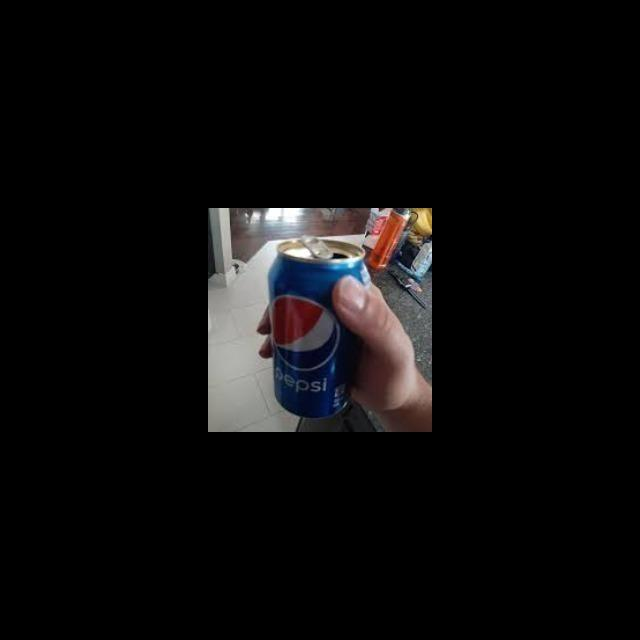metal: (260, 231, 376, 424)
